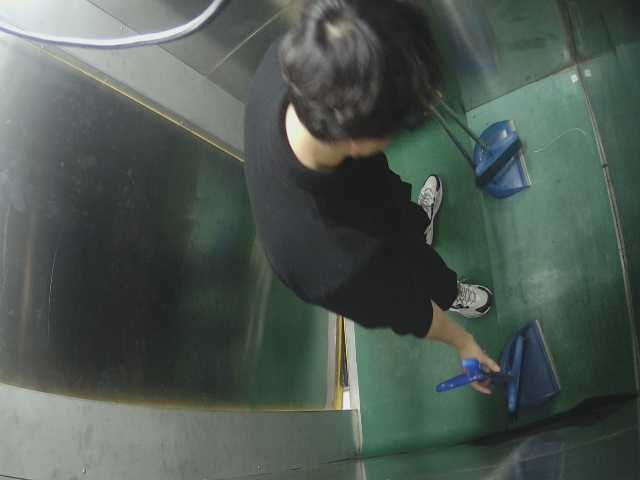broom: (405, 65, 560, 216), (413, 319, 576, 422)
person: (218, 12, 524, 324)
